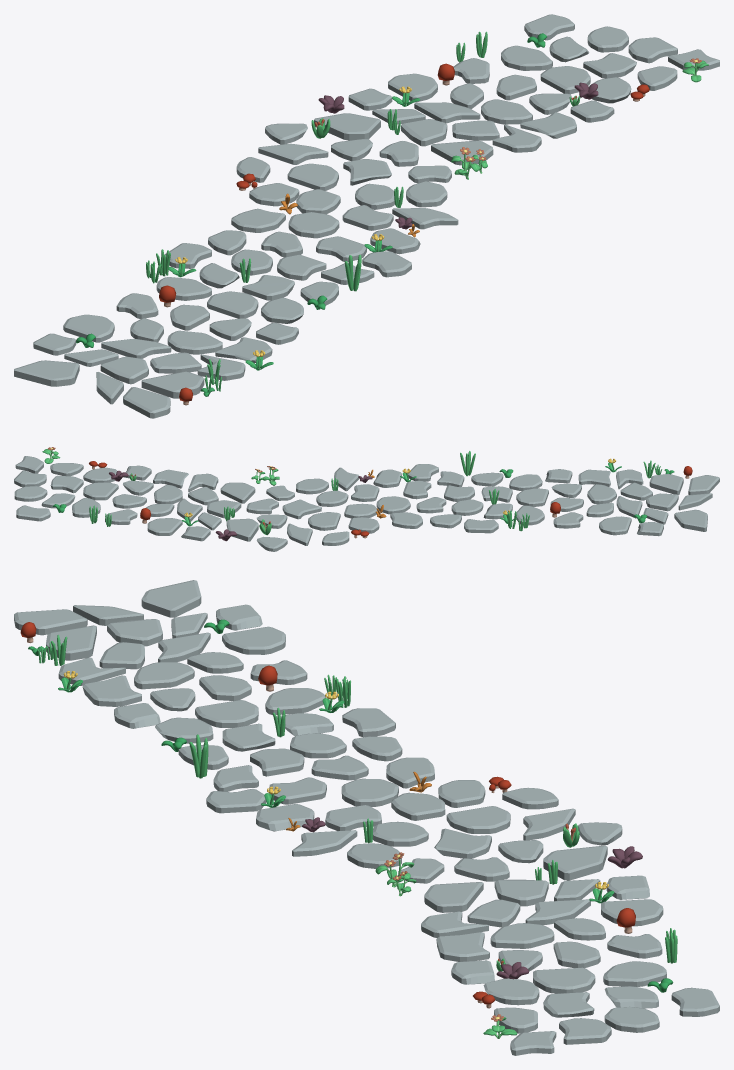
Rendered from customroadsecond.gltf.
The picture shows the model from 3 angles, top to bottom: view 1: azimuth 30°, elevation 25°; view 2: azimuth 150°, elevation 25°; view 3: azimuth 270°, elevation 25°; orthographic projection. The views are drawn at different scales.
Parts seen in each view (by area): view 1: Alley_Gray_0.001; view 2: Alley_Gray_0.001, Grass_B_02_LOD1_Mat_Nature_0.001; view 3: Alley_Gray_0.001.
Part boxes in pixels (x1,y1,x2,y2): Alley_Gray_0.001: (14,14,719,418); Alley_Gray_0.001: (14,456,719,551); Grass_B_02_LOD1_Mat_Nature_0.001: (460,451,475,476); Alley_Gray_0.001: (14,580,719,1055).
Size of the model in its own units: 269 by 10.69 by 171.
Materials: 34 (33 with a texture image).
